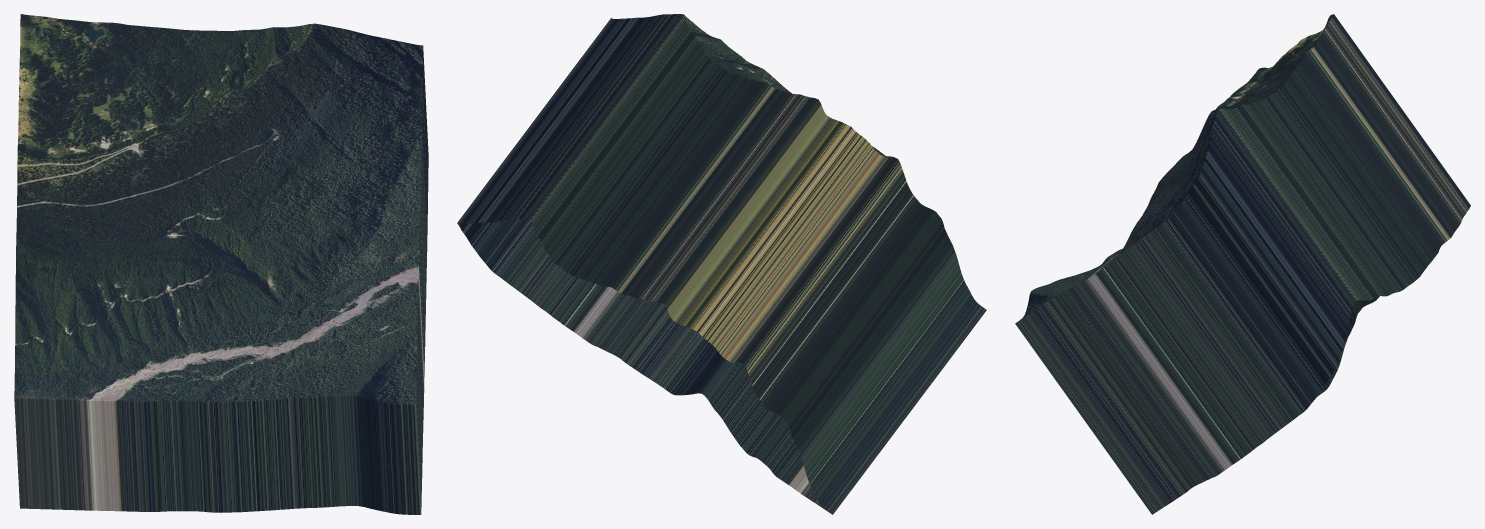
3 renders of one model, left to right at view 1: azimuth 30°, elevation 25°; view 2: azimuth 150°, elevation 25°; view 3: azimuth 270°, elevation 25°, orthographic. The views are drawn at different scales.
Bounding box in the file's own units: 6012 × 5476 × 5809.
1 material, 1 textured.
